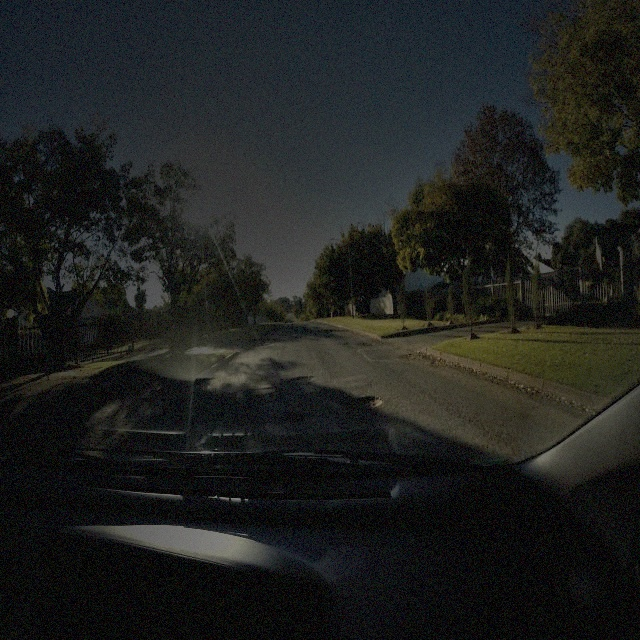pothole: (355, 395, 383, 410), (283, 411, 310, 425), (250, 388, 275, 397), (291, 375, 315, 382), (357, 341, 372, 347), (341, 341, 349, 347)
